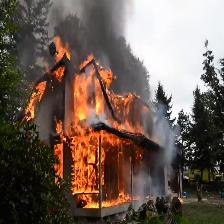fire: (45, 40, 127, 211)
smoke: (78, 1, 130, 47)
